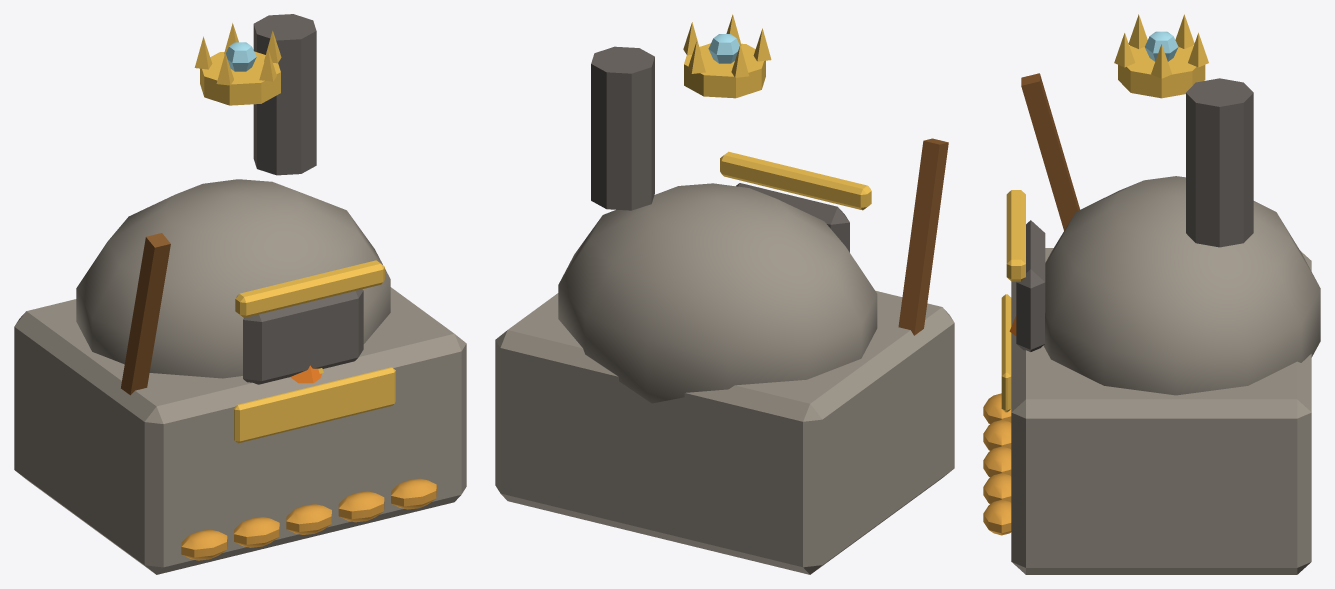
Rendered from PR_Station_Firin_T3.fbx.
3 views of the same model, side by side, from view 1: azimuth 30°, elevation 25°; view 2: azimuth 150°, elevation 25°; view 3: azimuth 270°, elevation 25° (orthographic). The views are drawn at different scales.
Visible parts, largest first — view 1: PR_Station_Firin_T3; view 2: PR_Station_Firin_T3; view 3: PR_Station_Firin_T3.
Boxes of the visible parts, box(x1,y1,x2,y2) form: PR_Station_Firin_T3: box(14, 14, 466, 574); PR_Station_Firin_T3: box(495, 14, 954, 574); PR_Station_Firin_T3: box(983, 14, 1320, 574).
Size of the model in its own units: 0.8 by 1.07 by 0.6964.
Materials: 1 (1 with a texture image).
